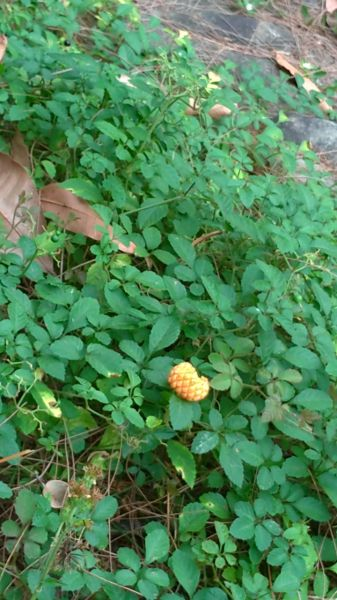eggs: (159, 359, 210, 405)
